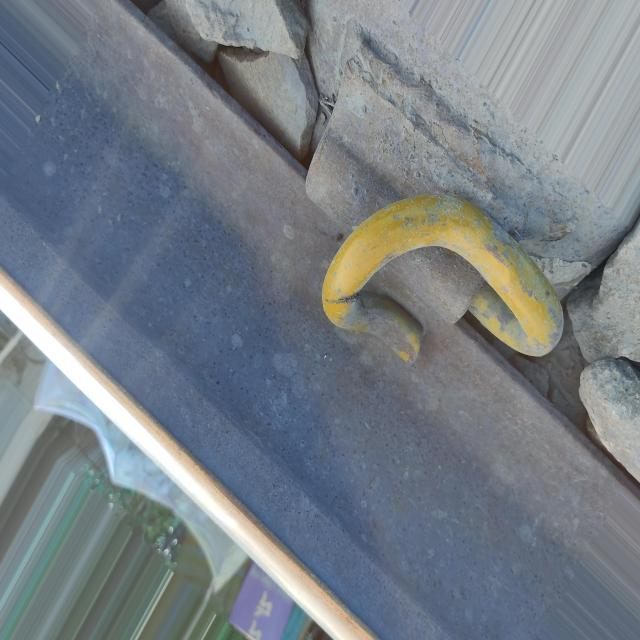Good Fasteners: (250, 72, 587, 412)
